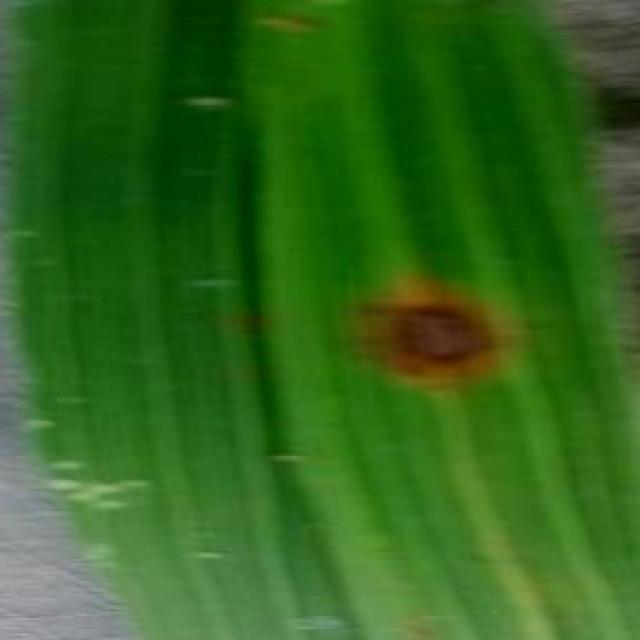Brown_Spot: (340, 274, 513, 399)
